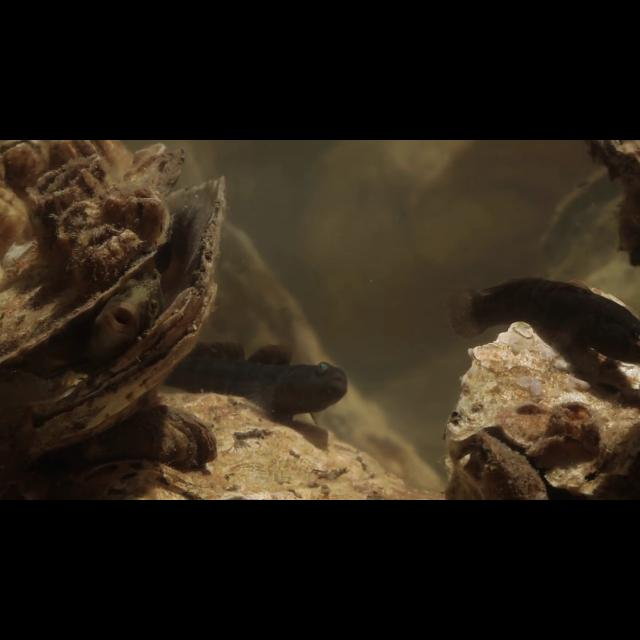Oyster-Open: (7, 175, 236, 450)
